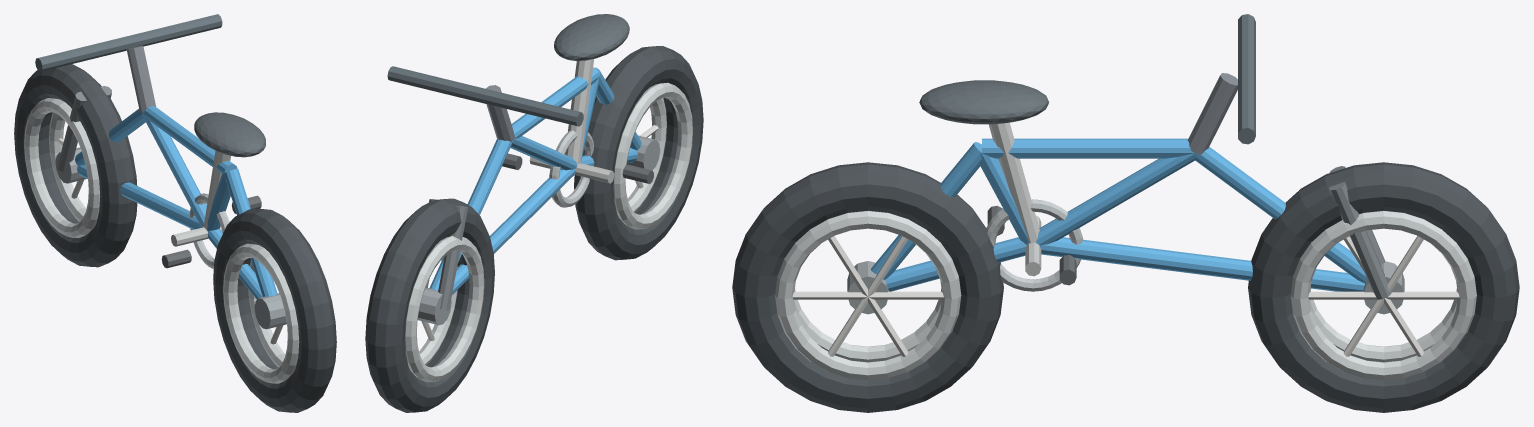
The model's file is bicycle.glb.
3 views of the same model, side by side, from view 1: azimuth 30°, elevation 25°; view 2: azimuth 150°, elevation 25°; view 3: azimuth 270°, elevation 25° (orthographic). The views are drawn at different scales.
Visible parts, largest first — view 1: Wheel_Tire_011, Wheel_Tire_001, Wheel_Rim_012, Wheel_Rim_002, Bike_Handle_033, Bike_Saddle_029, Bike_Frame_022, Bike_Frame_024, Bike_Frame_023, Bike_Frame_026, Wheel_Rim_003, Bike_HandleStem_032 (+11 smaller); view 2: Wheel_Tire_001, Wheel_Tire_011, Wheel_Rim_012, Wheel_Rim_002, Bike_Handle_033, Bike_Saddle_029, Bike_Frame_023, Bike_Frame_021, Bike_SeatTube_028, Bike_Frame_024, Wheel_Rim_013, Bike_ChainRing_034 (+10 smaller); view 3: Wheel_Tire_011, Wheel_Tire_001, Wheel_Rim_013, Wheel_Rim_003, Bike_Frame_023, Bike_Saddle_029, Bike_Frame_024, Bike_Frame_022, Bike_Frame_021, Bike_Handle_033, Wheel_Rim_002, Wheel_Rim_012 (+9 smaller).
Boxes of the visible parts, x1=… form: Wheel_Tire_011: x1=213, y1=208, x2=336, y2=412; Wheel_Tire_001: x1=14, y1=64, x2=137, y2=267; Wheel_Rim_012: x1=223, y1=243, x2=299, y2=383; Wheel_Rim_002: x1=24, y1=98, x2=100, y2=237; Bike_Handle_033: x1=35, y1=14, x2=222, y2=71; Bike_Saddle_029: x1=194, y1=112, x2=265, y2=157; Bike_Frame_022: x1=142, y1=113, x2=206, y2=227; Bike_Frame_024: x1=142, y1=106, x2=237, y2=173; Bike_Frame_023: x1=77, y1=165, x2=201, y2=229; Bike_Frame_026: x1=224, y1=169, x2=277, y2=296; Wheel_Rim_003: x1=49, y1=112, x2=86, y2=221; Bike_HandleStem_032: x1=126, y1=45, x2=156, y2=112; Wheel_Tire_001: x1=365, y1=198, x2=494, y2=412; Wheel_Tire_011: x1=574, y1=46, x2=703, y2=260; Wheel_Rim_012: x1=613, y1=82, x2=692, y2=229; Wheel_Rim_002: x1=404, y1=236, x2=484, y2=382; Bike_Handle_033: x1=387, y1=66, x2=583, y2=126; Bike_Saddle_029: x1=554, y1=14, x2=629, y2=60; Bike_Frame_023: x1=452, y1=168, x2=575, y2=294; Bike_Frame_021: x1=429, y1=138, x2=513, y2=290; Bike_SeatTube_028: x1=565, y1=59, x2=593, y2=164; Bike_Frame_024: x1=511, y1=67, x2=599, y2=138; Wheel_Rim_013: x1=628, y1=98, x2=666, y2=212; Bike_ChainRing_034: x1=549, y1=130, x2=593, y2=207; Wheel_Tire_011: x1=732, y1=162, x2=1003, y2=412; Wheel_Tire_001: x1=1248, y1=162, x2=1519, y2=412; Wheel_Rim_013: x1=775, y1=210, x2=961, y2=380; Wheel_Rim_003: x1=1290, y1=210, x2=1476, y2=380; Bike_Frame_023: x1=1040, y1=237, x2=1364, y2=291; Bike_Saddle_029: x1=919, y1=80, x2=1049, y2=124; Bike_Frame_024: x1=982, y1=138, x2=1194, y2=158; Bike_Frame_022: x1=1036, y1=153, x2=1195, y2=245; Bike_Frame_021: x1=1195, y1=147, x2=1367, y2=283; Bike_Handle_033: x1=1238, y1=14, x2=1255, y2=144; Wheel_Rim_002: x1=1310, y1=289, x2=1457, y2=362; Wheel_Rim_012: x1=794, y1=289, x2=941, y2=362.
Size of the model in its own units: 1.16 by 1.61 by 3.39.
